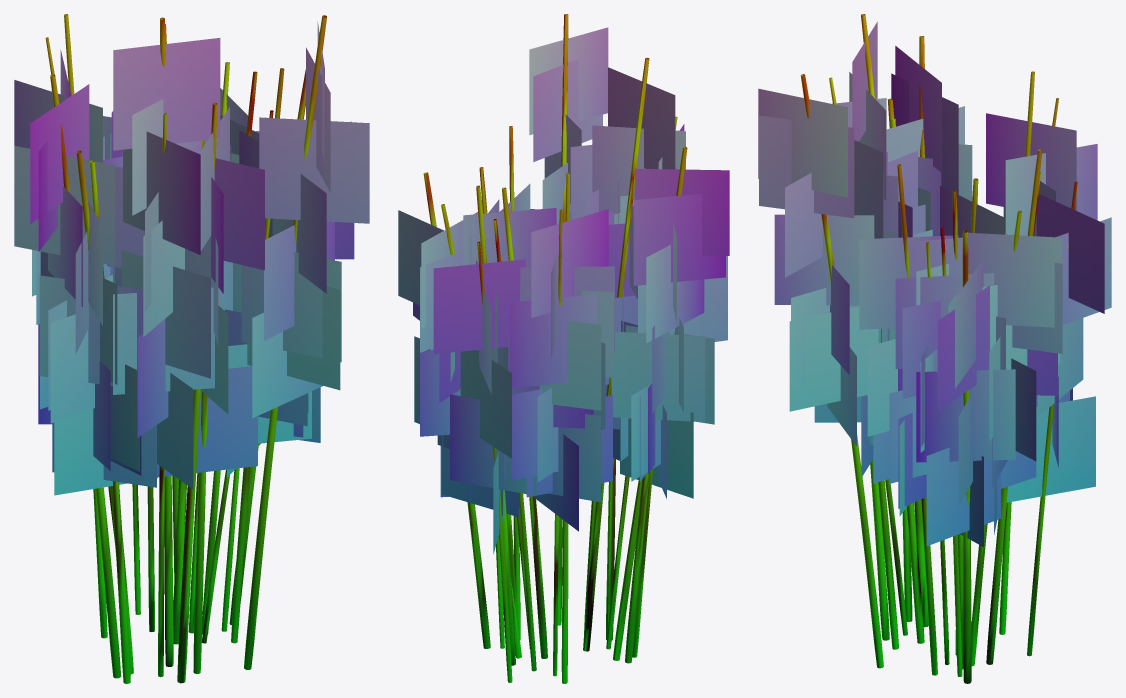
File: bamboo_clump_c.glb
3 renders of one model, left to right at view 1: azimuth 30°, elevation 25°; view 2: azimuth 150°, elevation 25°; view 3: azimuth 270°, elevation 25°, orthographic. The views are drawn at different scales.
Parts seen in each view (by area): view 1: bamboo_clump_c_LOD0; view 2: bamboo_clump_c_LOD0; view 3: bamboo_clump_c_LOD0.
Boxes of the visible parts, left/top/right/bottom form: bamboo_clump_c_LOD0: left=14, top=14, right=369, bottom=683; bamboo_clump_c_LOD0: left=398, top=14, right=729, bottom=683; bamboo_clump_c_LOD0: left=758, top=14, right=1111, bottom=683.
Size of what is drawn, in the model's own units: 4.8 by 8.79 by 4.6.
